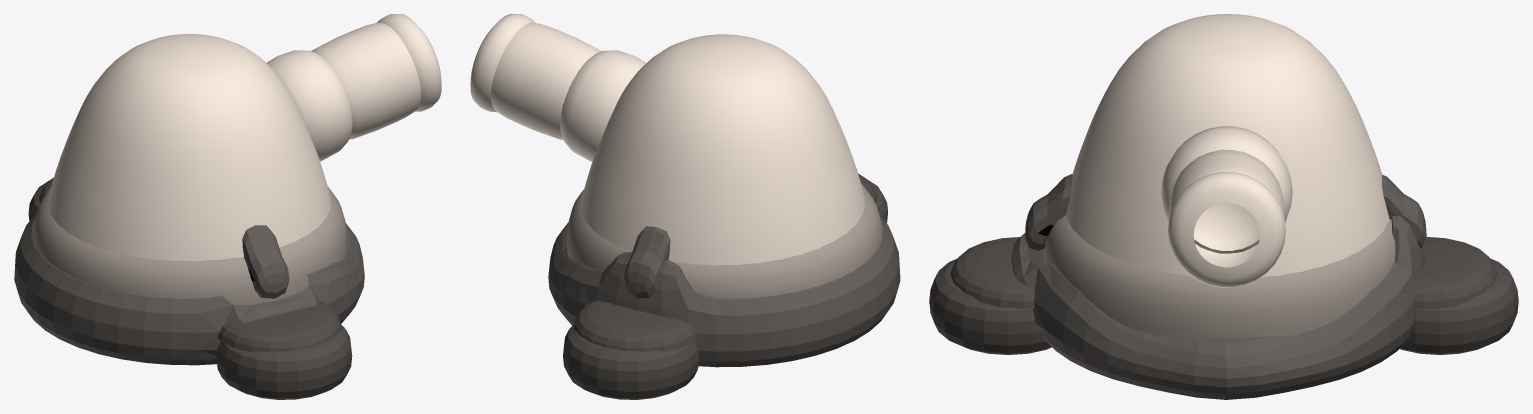
Rendered from tower.obj.
3 renders of one model, left to right at view 1: azimuth 30°, elevation 25°; view 2: azimuth 150°, elevation 25°; view 3: azimuth 270°, elevation 25°, orthographic. The views are drawn at different scales.
Parts seen in each view (by area): view 1: Barrel_Cylinder.001; view 2: Barrel_Cylinder.001; view 3: Barrel_Cylinder.001.
Boxes of the visible parts, box(x1,y1,x2,y2) form: Barrel_Cylinder.001: box(14, 14, 441, 399); Barrel_Cylinder.001: box(470, 14, 900, 399); Barrel_Cylinder.001: box(929, 14, 1518, 399).
Bounding box in the file's own units: 3.62 × 2.32 × 4.12.
Materials: 1 (1 with a texture image).
